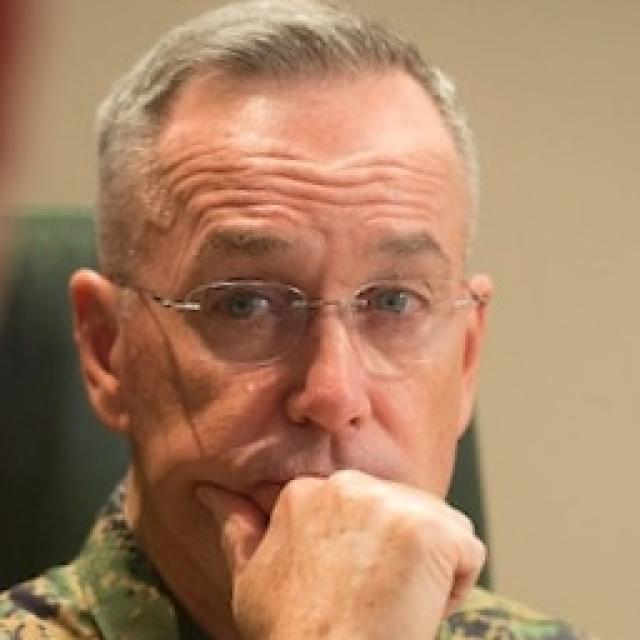glasses: (106, 251, 492, 380)
